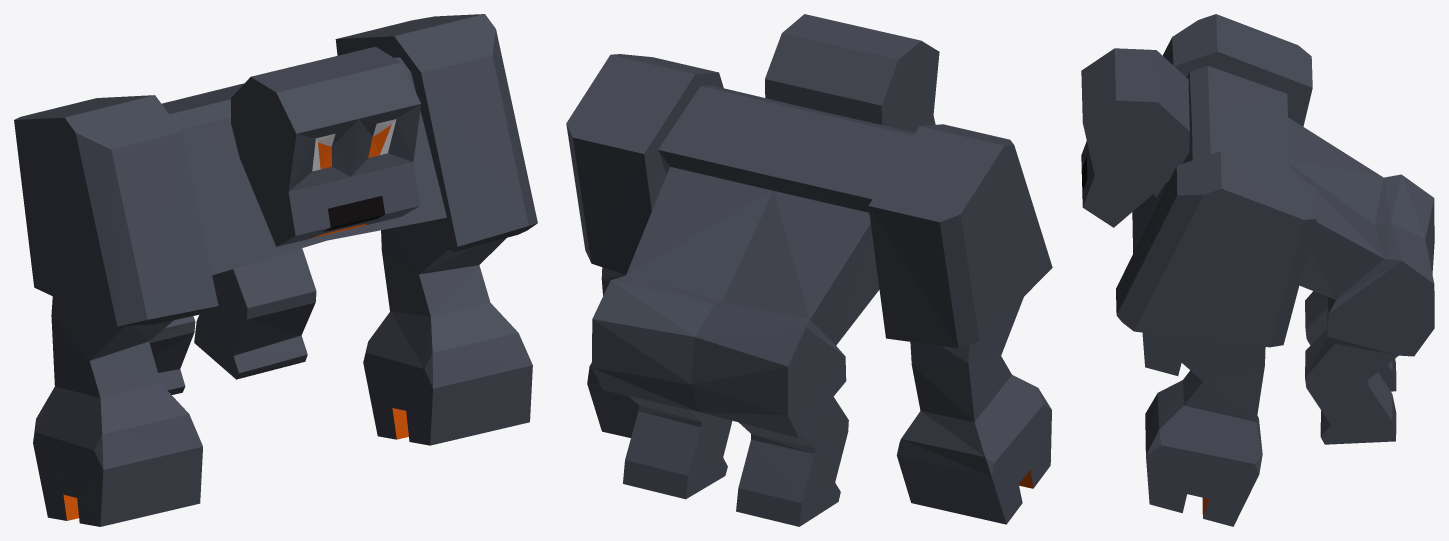
File: kong_000023.obj
3 views of the same model, side by side, from view 1: azimuth 30°, elevation 25°; view 2: azimuth 150°, elevation 25°; view 3: azimuth 270°, elevation 25° (orthographic). The views are drawn at different scales.
Visible parts, largest first — view 1: Cube; view 2: Cube; view 3: Cube.
Part boxes in pixels (bbox=[...]): Cube: bbox=[14, 14, 537, 526]; Cube: bbox=[566, 14, 1052, 526]; Cube: bbox=[1081, 14, 1434, 526].
Size of the model in its own units: 5.85 by 5.63 by 4.92.
Materials: 1 (1 with a texture image).
